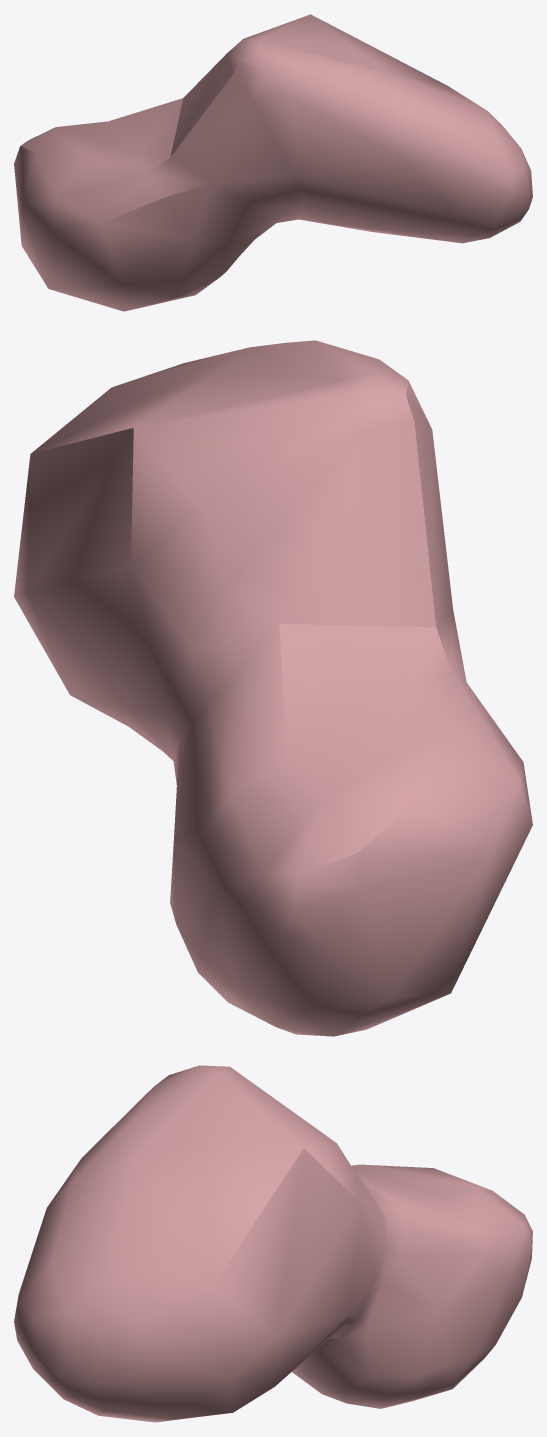
Rendered from fma14964_fj2585.glb.
The picture shows the model from 3 angles, top to bottom: view 1: azimuth 30°, elevation 25°; view 2: azimuth 150°, elevation 25°; view 3: azimuth 270°, elevation 25°; orthographic projection. The views are drawn at different scales.
Parts seen in each view (by area): view 1: FMA14964_FJ2585; view 2: FMA14964_FJ2585; view 3: FMA14964_FJ2585.
Boxes of the visible parts, x1=… form: FMA14964_FJ2585: x1=14, y1=14, x2=532, y2=311; FMA14964_FJ2585: x1=14, y1=340, x2=532, y2=1036; FMA14964_FJ2585: x1=14, y1=1065, x2=532, y2=1422.
Size of the model in its own units: 0.0369 by 0.0279 by 0.0374.
